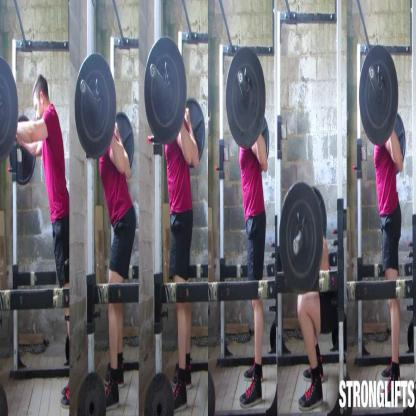Barbell: (276, 174, 326, 297), (143, 32, 189, 150), (73, 46, 118, 162), (358, 35, 400, 150), (225, 39, 268, 150)
